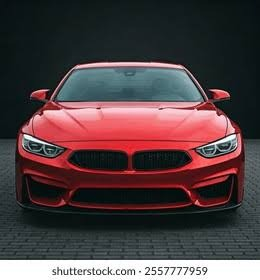car: (15, 66, 247, 219), (20, 65, 252, 216)
